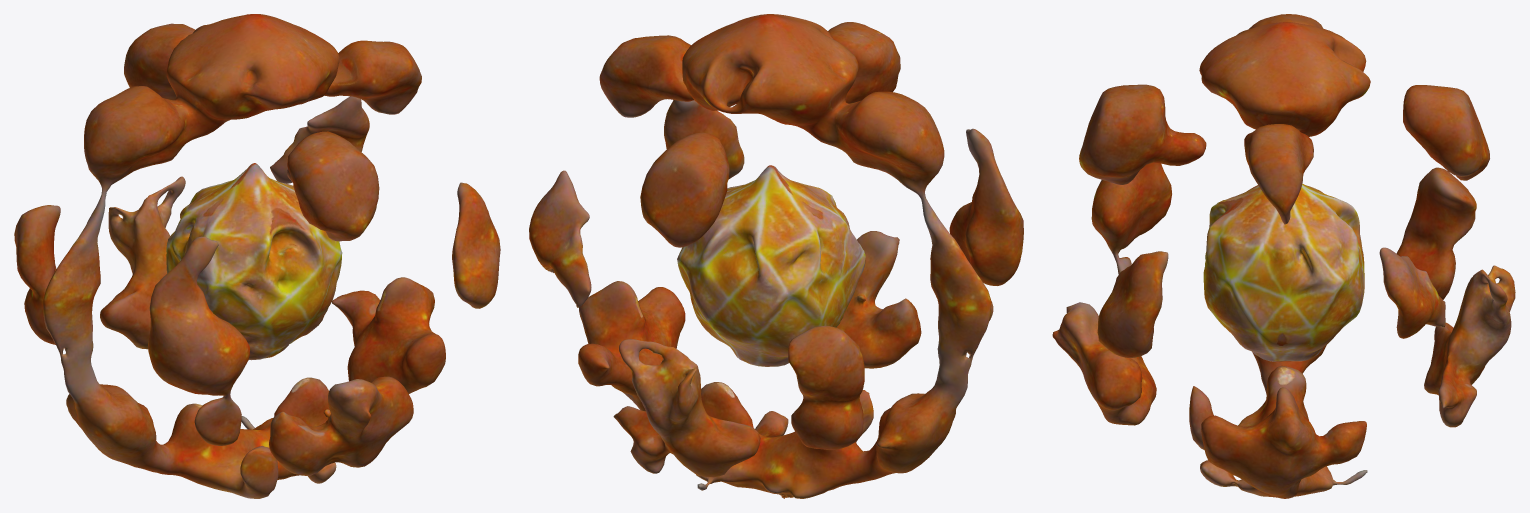
The model's file is 94529c375a46_a_orange_glowing_ga.fbx.
3 renders of one model, left to right at view 1: azimuth 30°, elevation 25°; view 2: azimuth 150°, elevation 25°; view 3: azimuth 270°, elevation 25°, orthographic. The views are drawn at different scales.
Parts seen in each view (by area): view 1: mesh; view 2: mesh; view 3: mesh.
Part boxes in pixels (<box>): mesh: <box>14,14,500,498</box>; mesh: <box>529,14,1023,498</box>; mesh: <box>1052,14,1515,498</box>.
Size of the model in its own units: 89.25 by 99.82 by 90.86.
